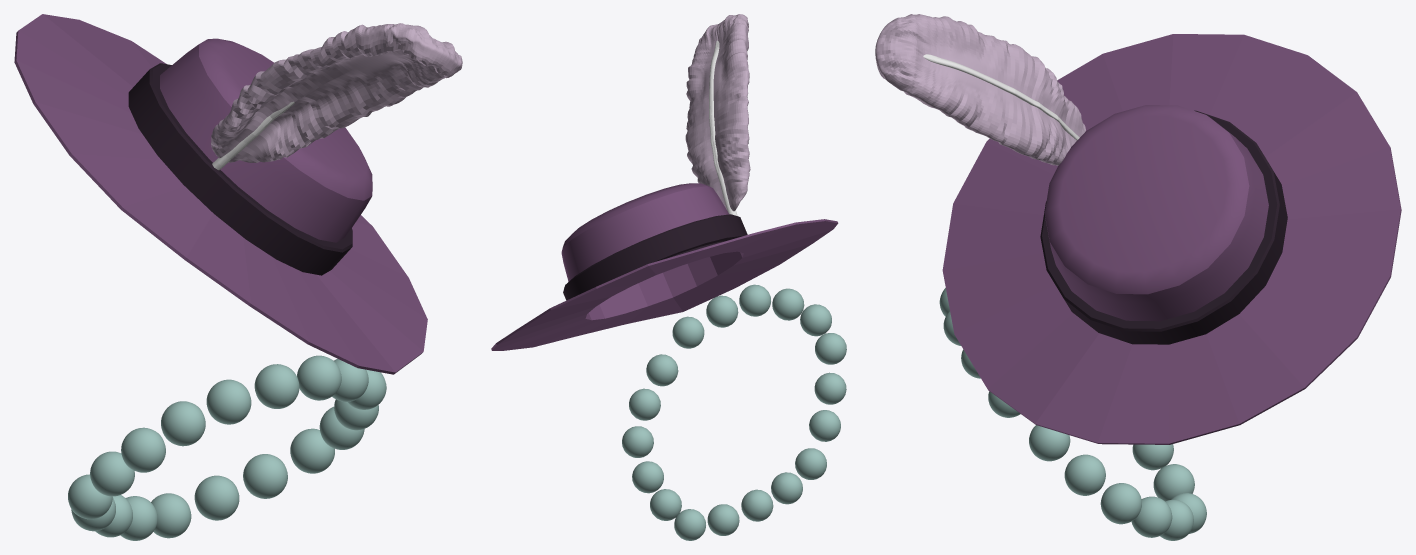
The model's file is Momo_acc.fbx.
3 views of the same model, side by side, from view 1: azimuth 30°, elevation 25°; view 2: azimuth 150°, elevation 25°; view 3: azimuth 270°, elevation 25° (orthographic). The views are drawn at different scales.
Parts seen in each view (by area): view 1: pasted__polySurface24, pasted__polySurface9; view 2: pasted__polySurface24, pasted__polySurface9; view 3: pasted__polySurface24, pasted__polySurface9.
Boxes of the visible parts, bbox=[...] form: pasted__polySurface24: bbox=[14, 14, 462, 374]; pasted__polySurface9: bbox=[68, 355, 386, 540]; pasted__polySurface24: bbox=[491, 14, 838, 350]; pasted__polySurface9: bbox=[622, 284, 846, 540]; pasted__polySurface24: bbox=[875, 14, 1401, 444]; pasted__polySurface9: bbox=[939, 288, 1206, 540].
Bounding box in the file's own units: 2.67 × 4.06 × 3.5.
